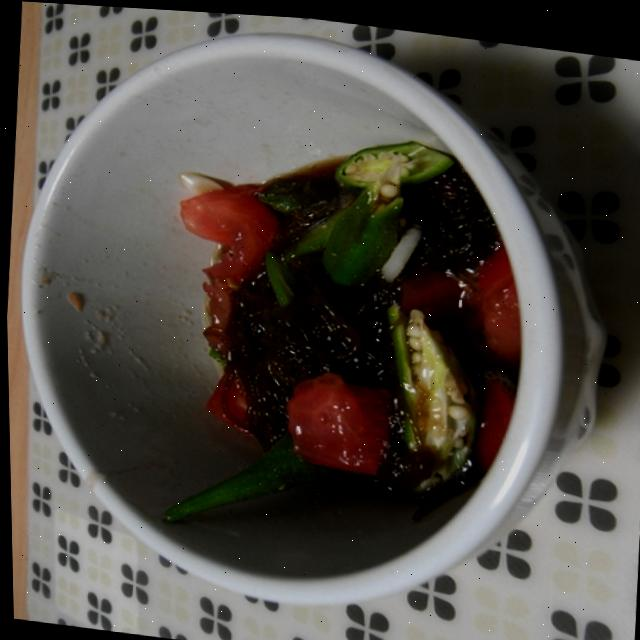蔬菜料理: (0, 15, 605, 623)
